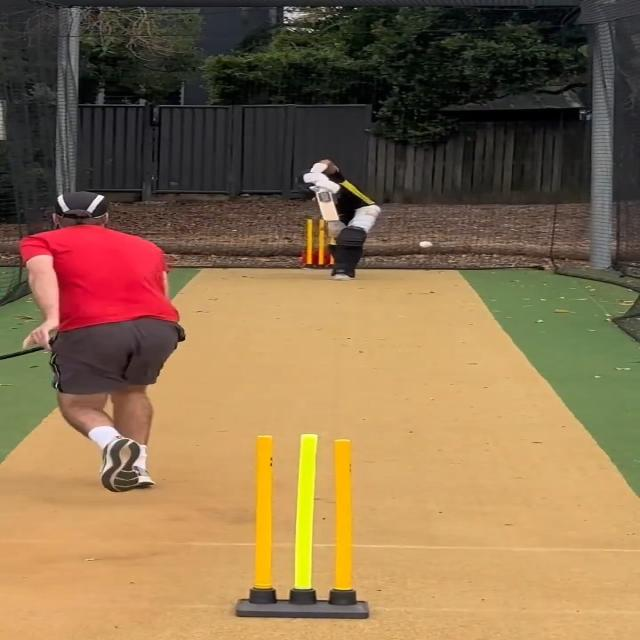ball: (416, 239, 434, 250)
stump: (232, 431, 374, 618)
